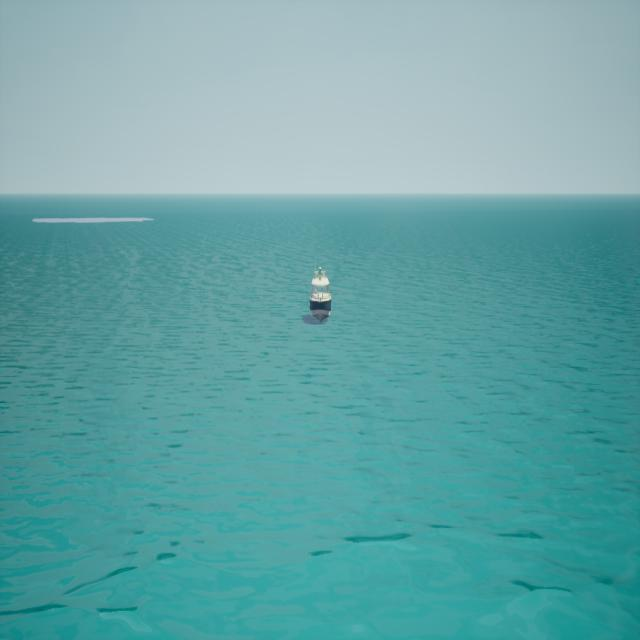ship: (307, 262, 331, 322)
